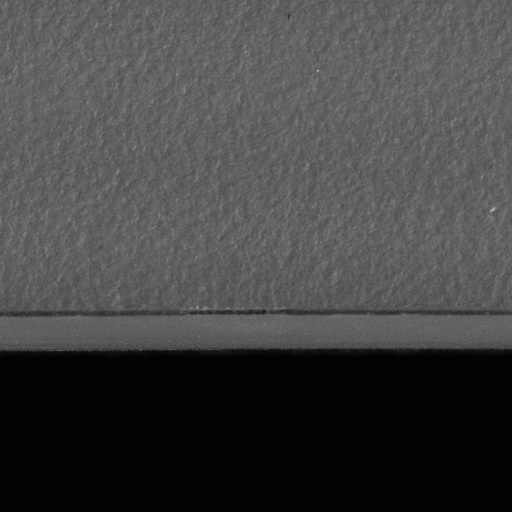jiaofeng: (0, 304, 511, 328)
